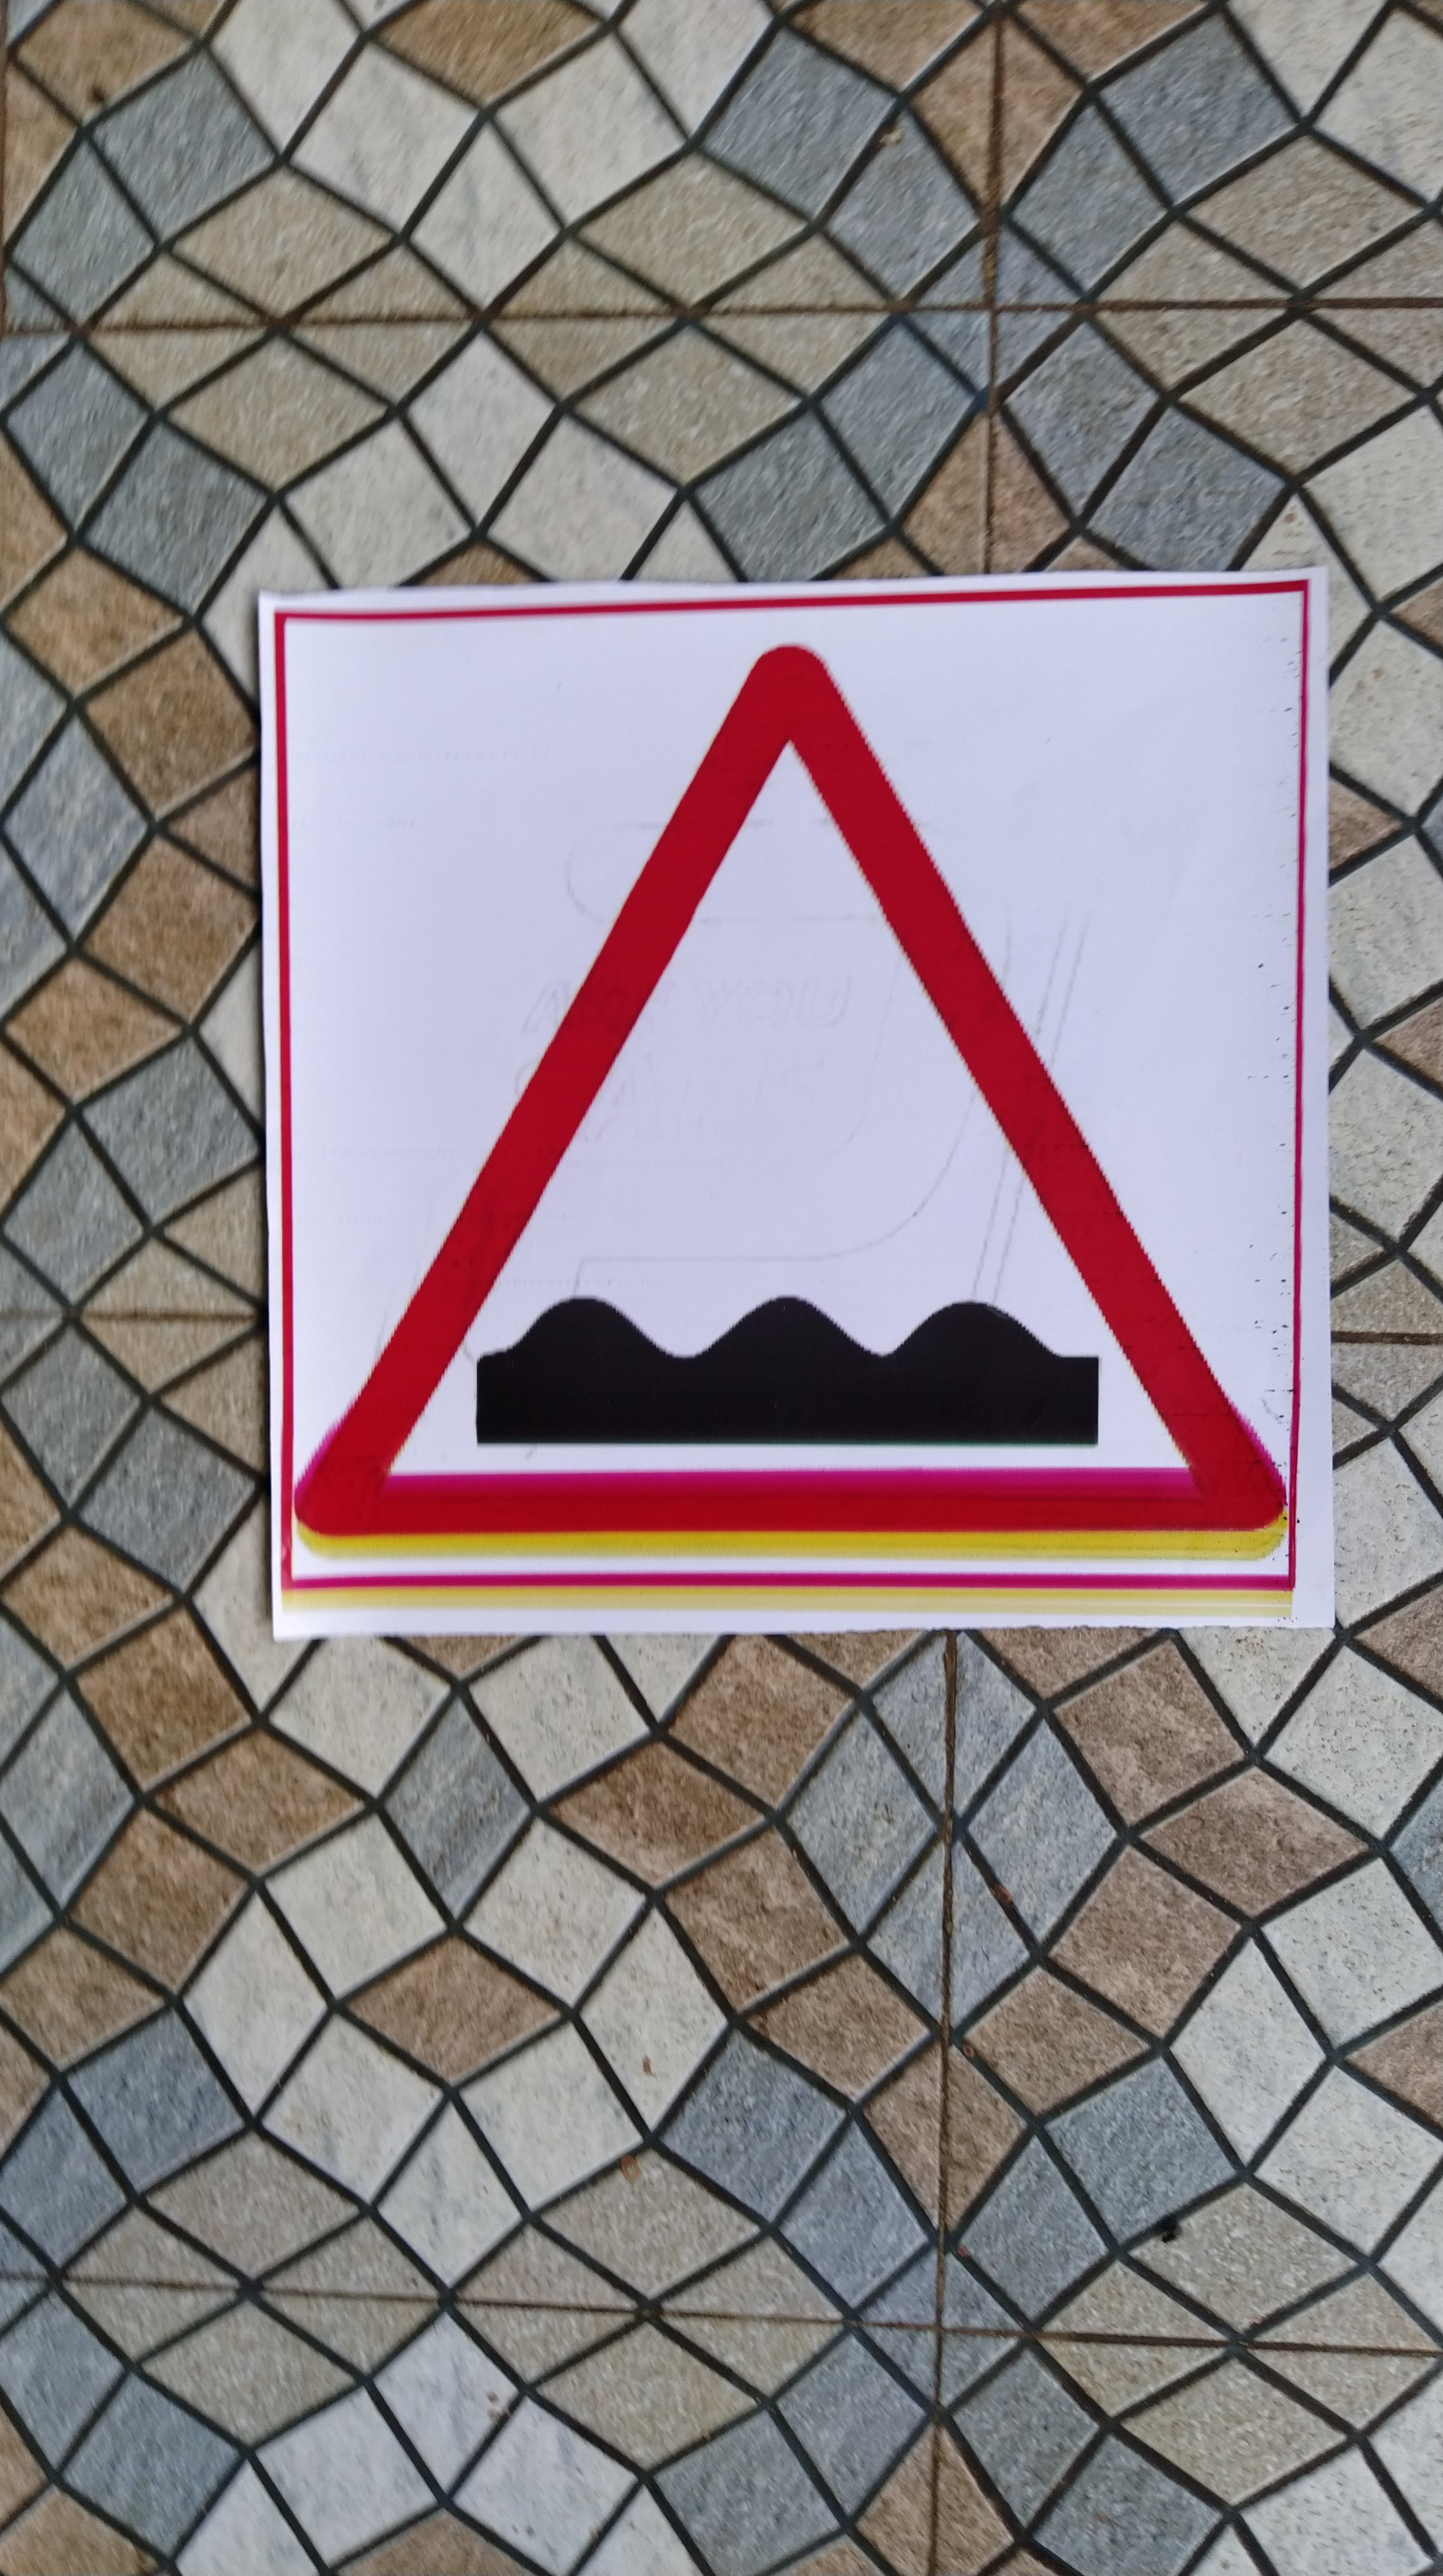speed breaker: (267, 610, 1328, 1637)
